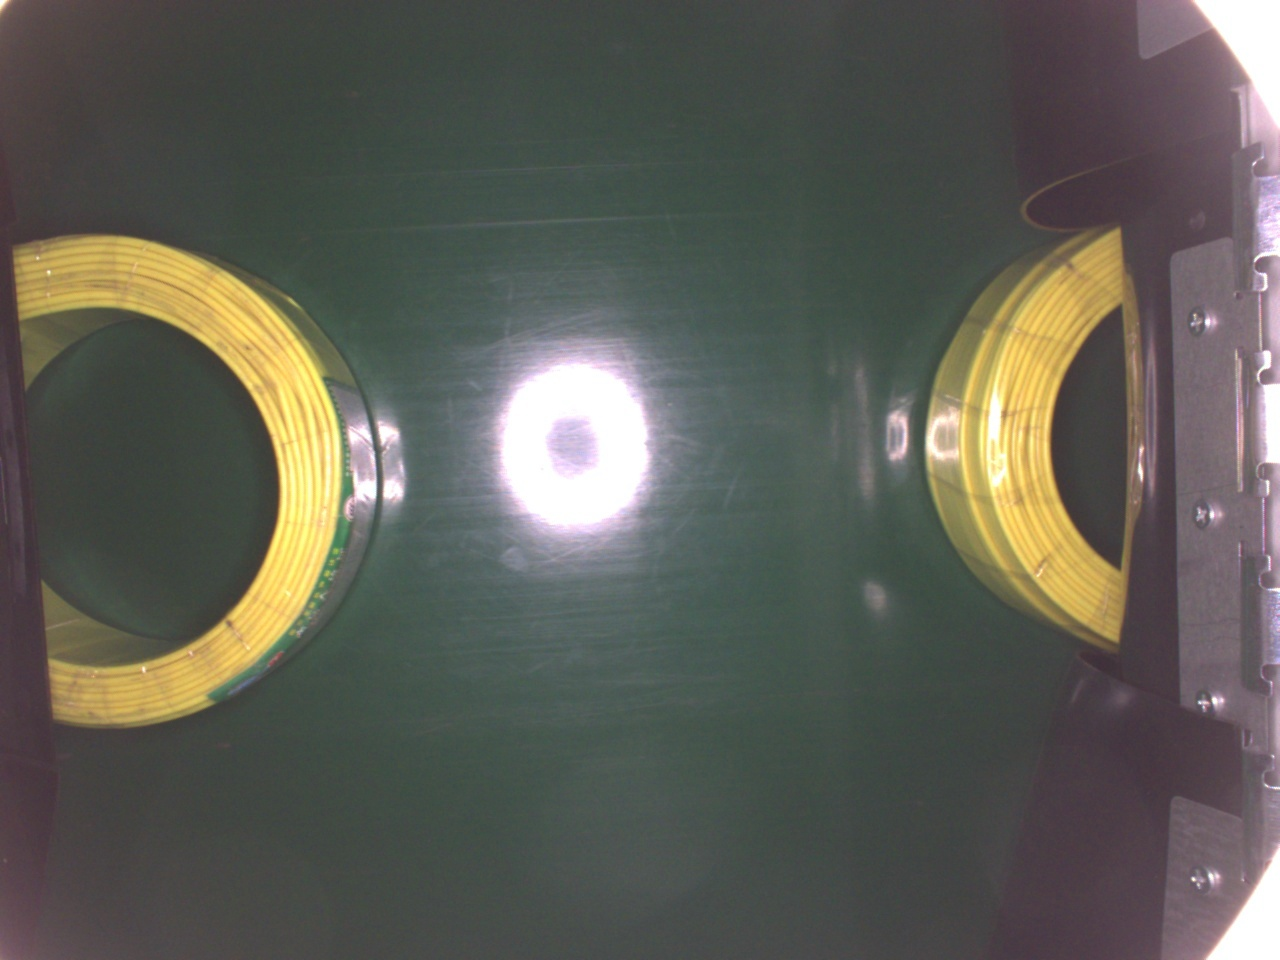yellow: (11, 229, 380, 728), (928, 216, 1129, 652)
